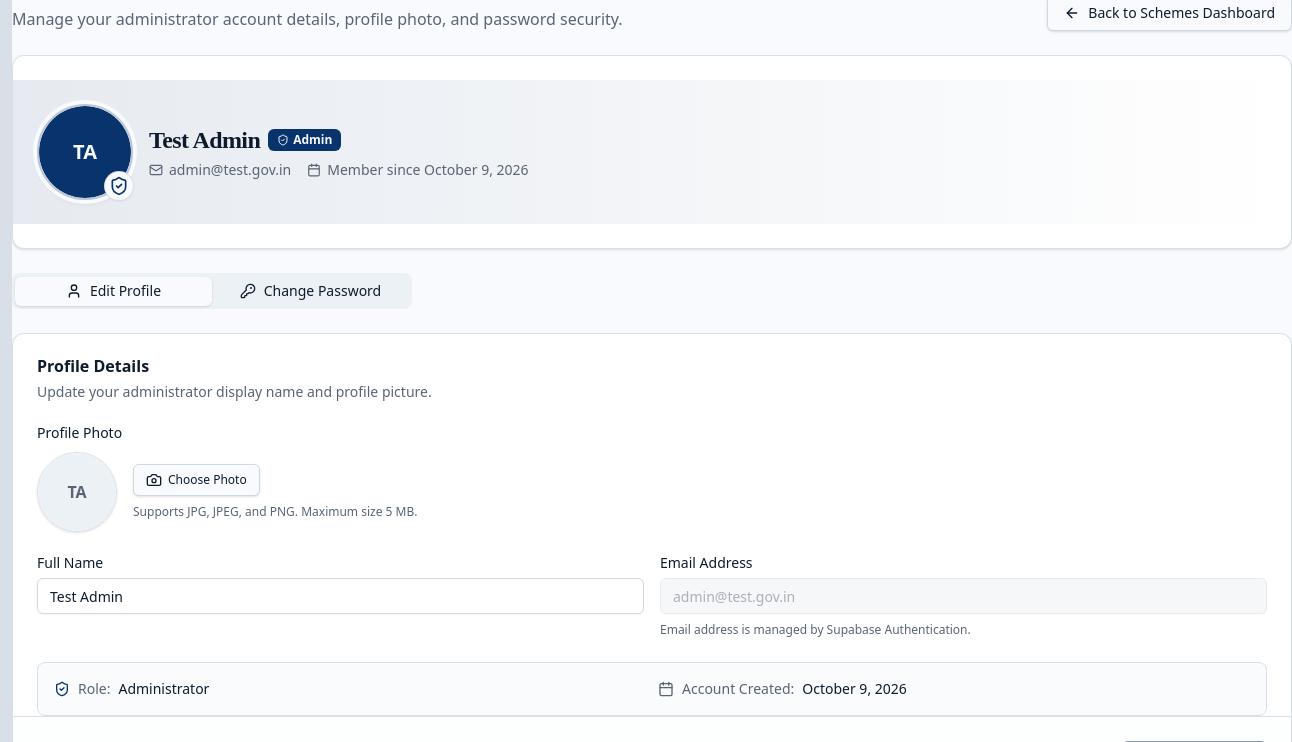
Scenario: Admin Profile - UI & Authorization › allows admin to cancel edits and resets form back to initial state
The width and height of the screenshot is (1292, 742).
Replace the text in the field labelled "Full Name" with "Changed Name" at coordinates (340, 596), box [37, 578, 644, 614]
(page scrolled)
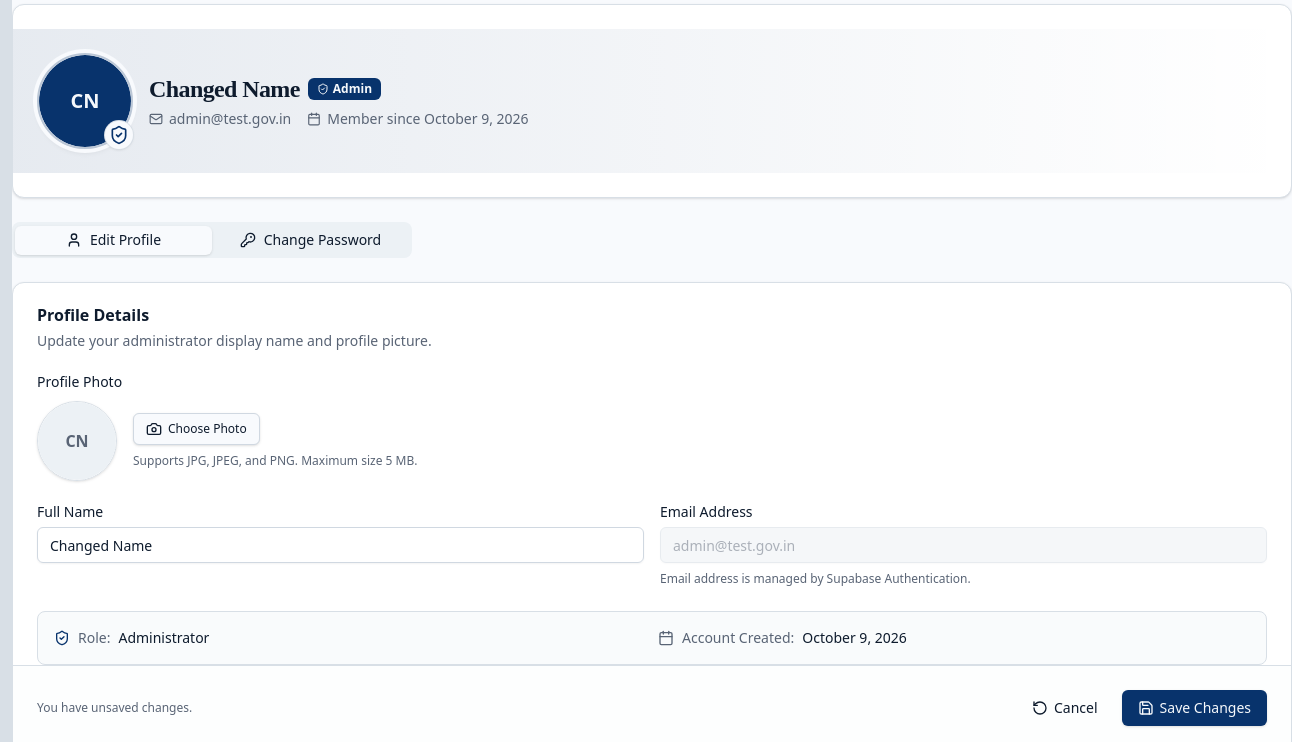
Click the button "Cancel" at coordinates (1065, 708), box [1016, 690, 1114, 726]
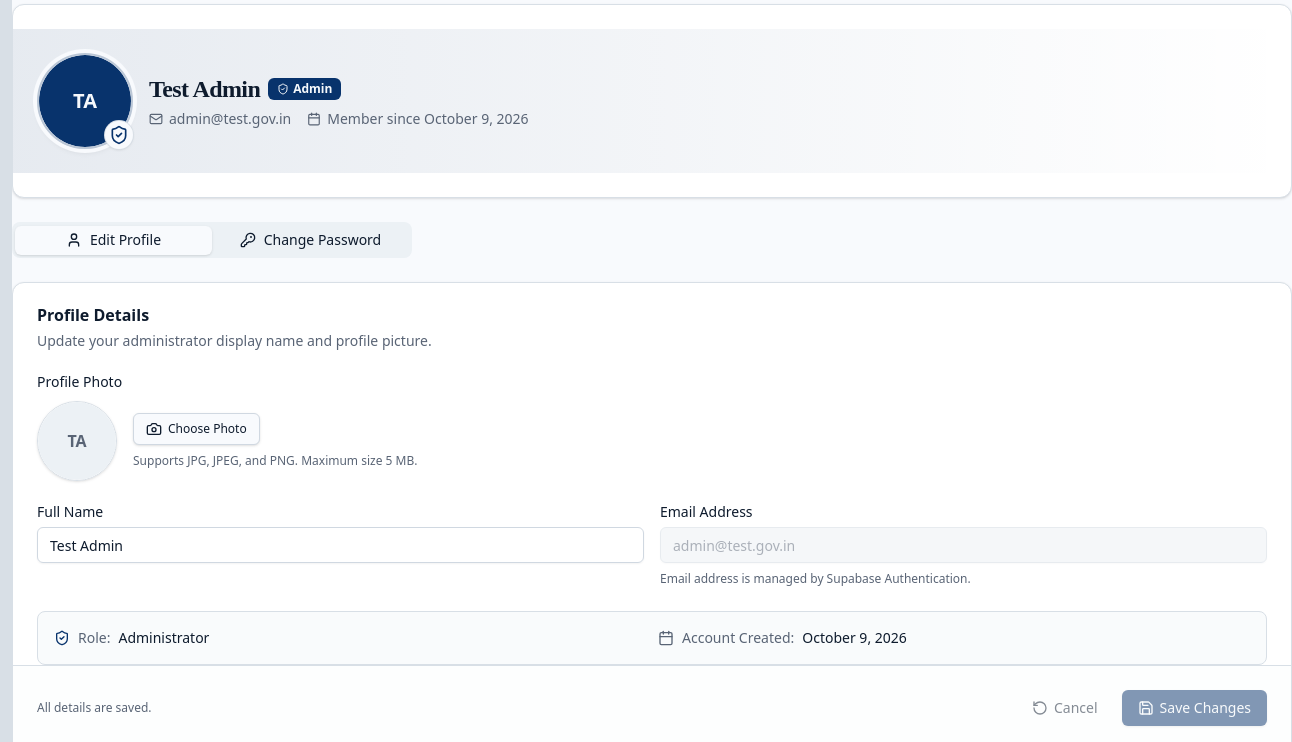
Check: the field labelled "Full Name" holds "Test Admin", box [37, 527, 644, 563]
Check: the text "All details are saved." is shown, box [37, 700, 152, 716]
